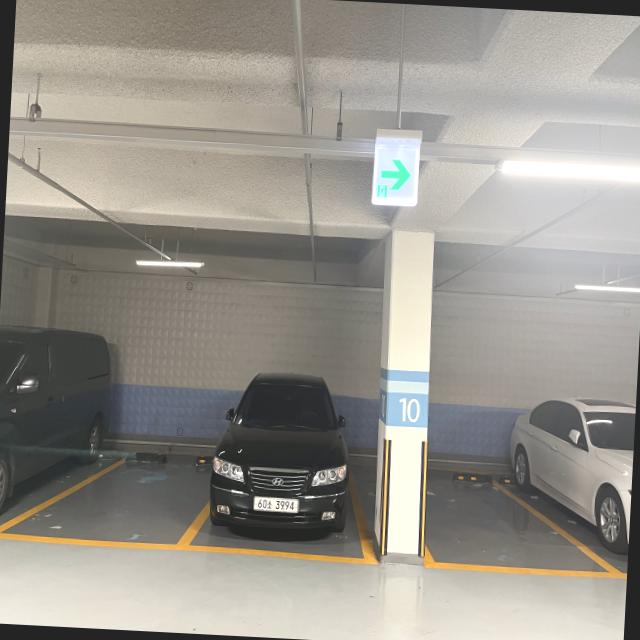car: (202, 350, 368, 572)
free: (0, 437, 216, 550), (420, 465, 620, 586)
